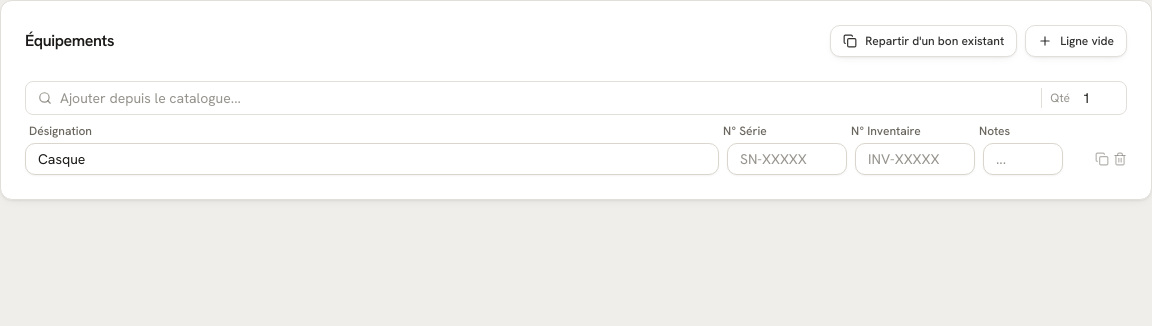
Test: EquipmentSection — lecteur de code-barres (Entrée dans le champ N° Série) › enchaîne plusieurs lignes de suite (dix exemplaires identiques sans lâcher le lecteur)
Click the field named "Numéro de série - ligne 1".
click(787, 159)  # box [727,143,847,175]
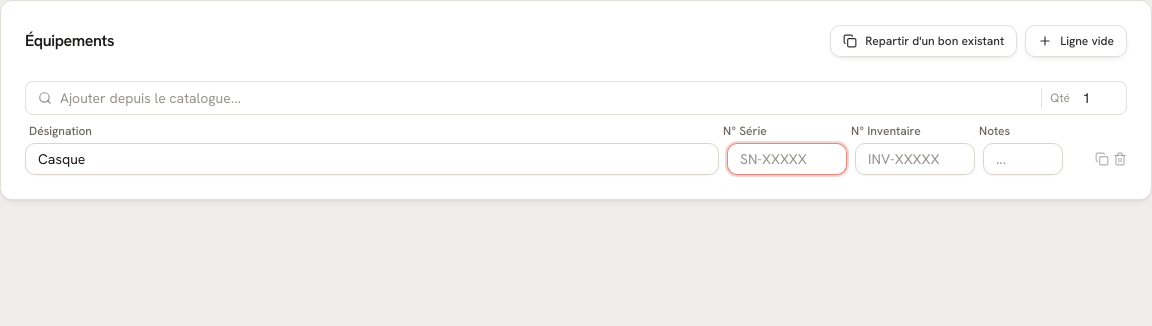
Type keys "SN-A{Enter}"
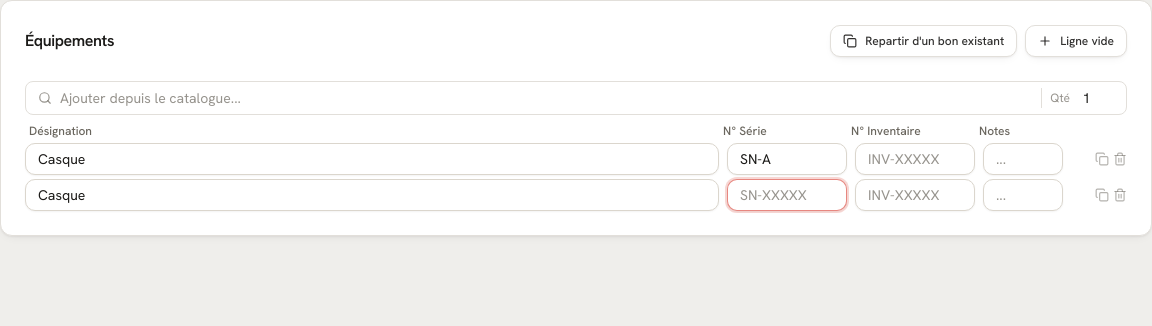
Type keys "SN-B{Enter}"
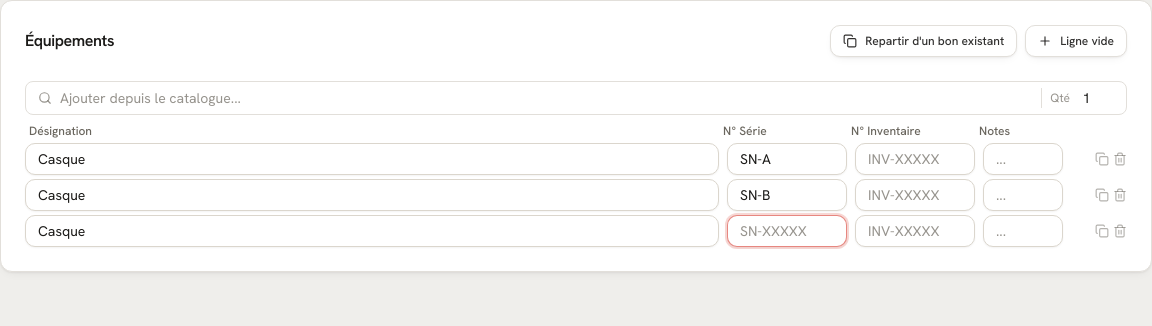
Type keys "SN-C{Enter}"
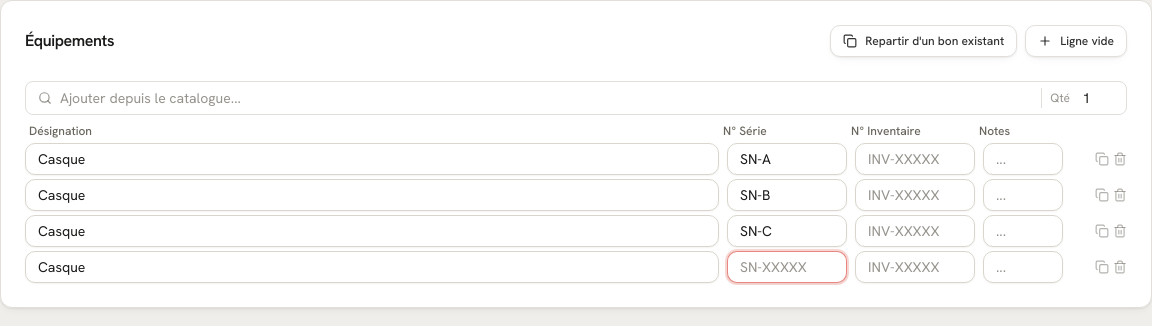
Now the number of fields with placeholder "SN-XXXXX" is 4, box [727,143,847,175]; [727,179,847,211]; [727,215,847,247]; [727,251,847,283]
